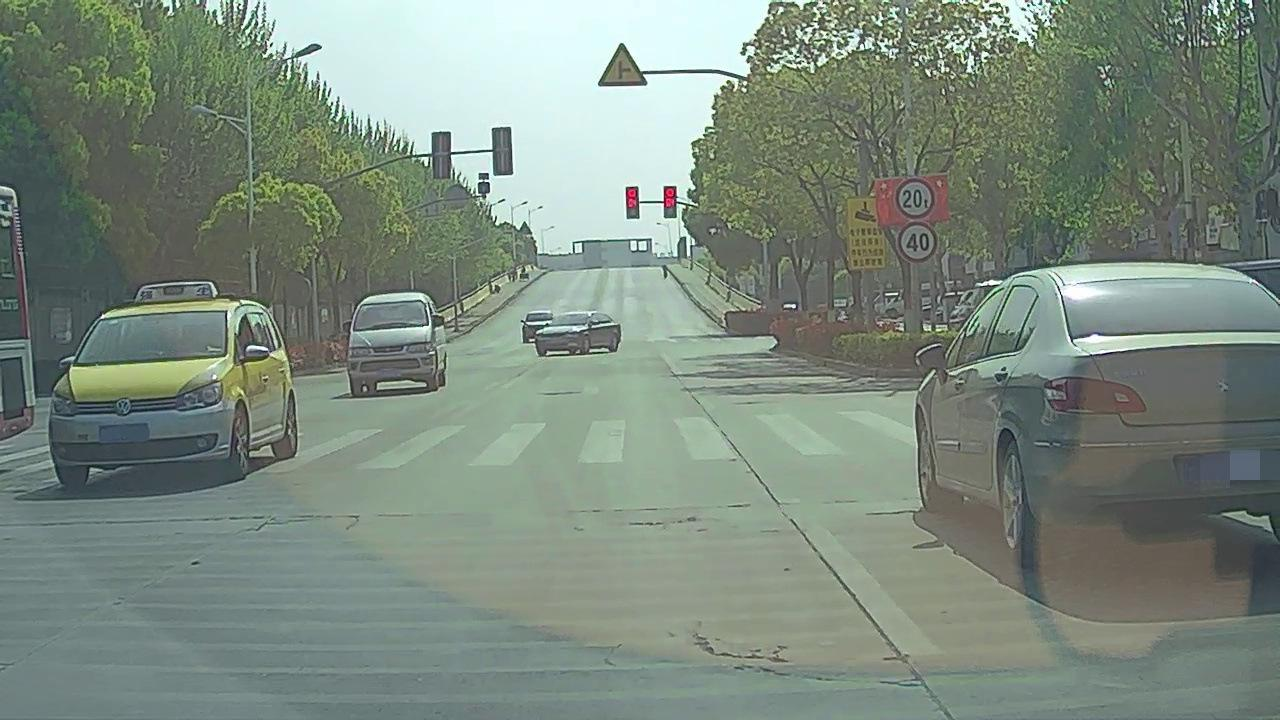traffic_light: (664, 185, 677, 218), (627, 185, 639, 218)
